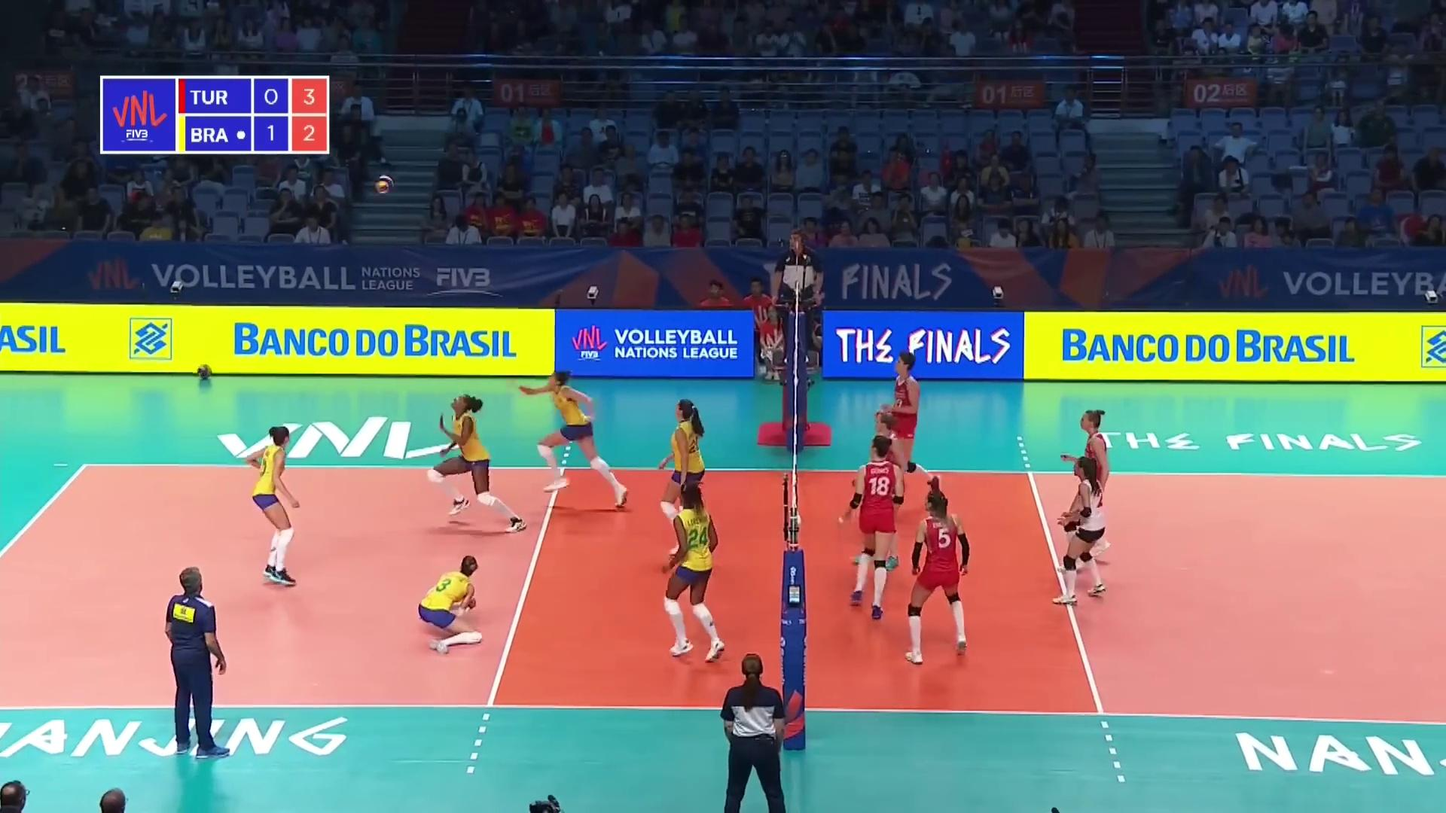player: (519, 368, 632, 507), (424, 394, 529, 533), (863, 352, 943, 507), (845, 435, 906, 618), (907, 489, 970, 660), (665, 484, 723, 660), (246, 424, 304, 587), (1061, 406, 1112, 570), (853, 412, 904, 570), (659, 400, 708, 558), (1059, 457, 1109, 605), (415, 556, 485, 654)
refree: (719, 657, 791, 813), (772, 230, 823, 358)
